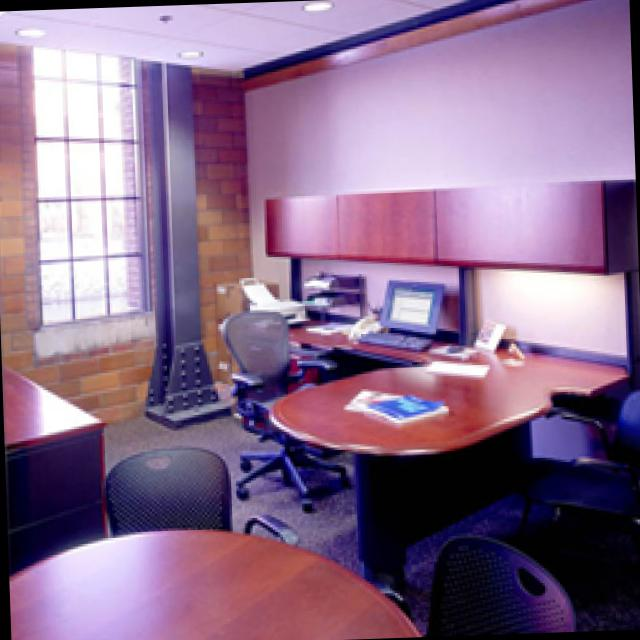2001: (30, 47, 144, 317)
boxes: (214, 273, 274, 383)
cabinet door: (1, 359, 105, 575)
cabinets: (263, 177, 633, 275)
ceiling lamps: (299, 0, 332, 13), (15, 25, 47, 37), (171, 47, 203, 57)
chair: (426, 535, 573, 629), (103, 443, 230, 535)
chair -occluded-: (215, 307, 343, 503), (513, 389, 640, 565)
desk calendar: (271, 320, 624, 571)
file cabinet: (299, 268, 363, 321)
keyboard crop: (353, 326, 428, 349)
laptop computer: (351, 278, 441, 349)
magazines: (341, 386, 448, 420)
monitor crop: (375, 275, 441, 334)
mouse: (426, 340, 466, 355)
mouse pad: (443, 338, 461, 351)
paper cup with straws: (424, 359, 487, 377)
picture occluded: (468, 314, 503, 349)
printer: (233, 275, 304, 323)
table -X: (8, 526, 421, 640)
